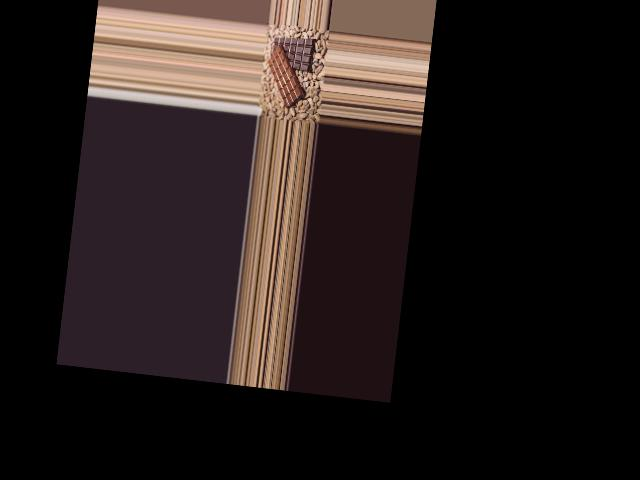chocolate: (268, 29, 318, 72)
